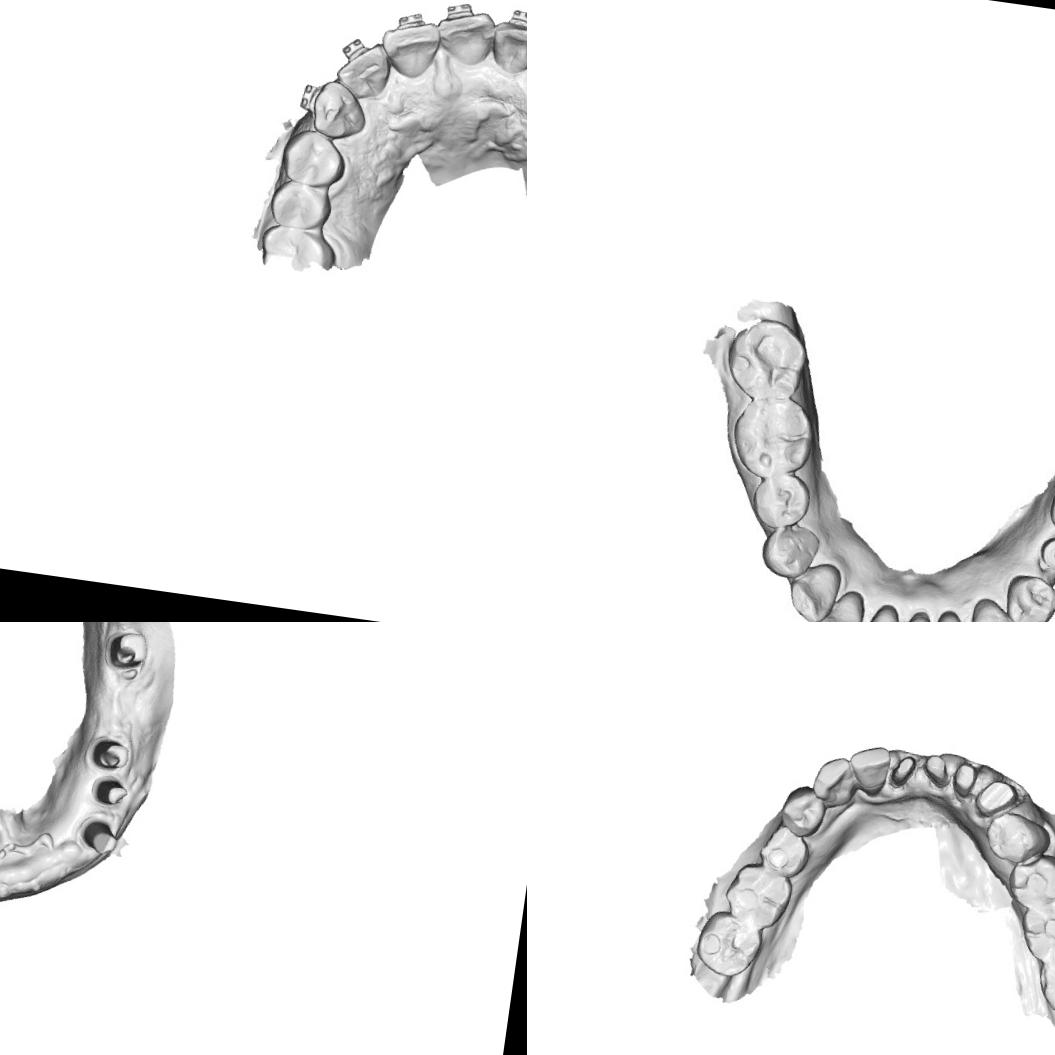abutment: (75, 814, 130, 864), (103, 625, 153, 678), (86, 730, 135, 777), (85, 772, 133, 812)
canine: (303, 75, 372, 144), (786, 557, 844, 622), (806, 752, 863, 816), (965, 596, 1024, 622)
crown: (970, 774, 1022, 822), (945, 758, 983, 804), (889, 748, 924, 794), (920, 752, 958, 794)
implant: (1039, 531, 1055, 572)
incisor: (431, 0, 501, 72), (374, 15, 444, 83), (330, 38, 396, 104), (844, 739, 895, 800), (483, 14, 527, 78), (814, 586, 864, 622), (854, 599, 906, 622), (930, 608, 982, 622)
molar: (721, 316, 815, 405), (730, 394, 820, 480), (689, 906, 768, 983), (718, 858, 798, 934), (1016, 890, 1055, 967), (1031, 948, 1055, 1024)
premolar: (276, 124, 351, 193), (979, 808, 1055, 872), (265, 177, 336, 235), (747, 468, 810, 529), (754, 821, 813, 883), (760, 520, 822, 578), (1003, 852, 1055, 916), (776, 780, 830, 841), (1005, 569, 1055, 622)
